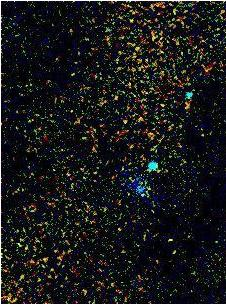star: (155, 226, 185, 256)
